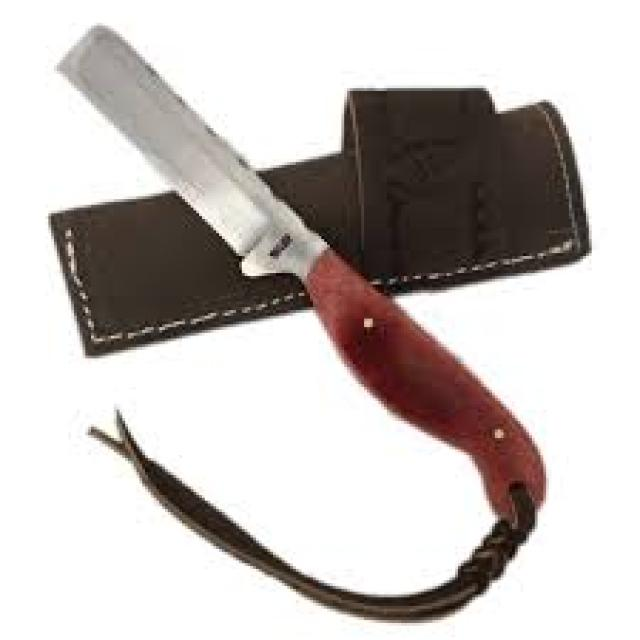knives: (34, 15, 387, 328)
